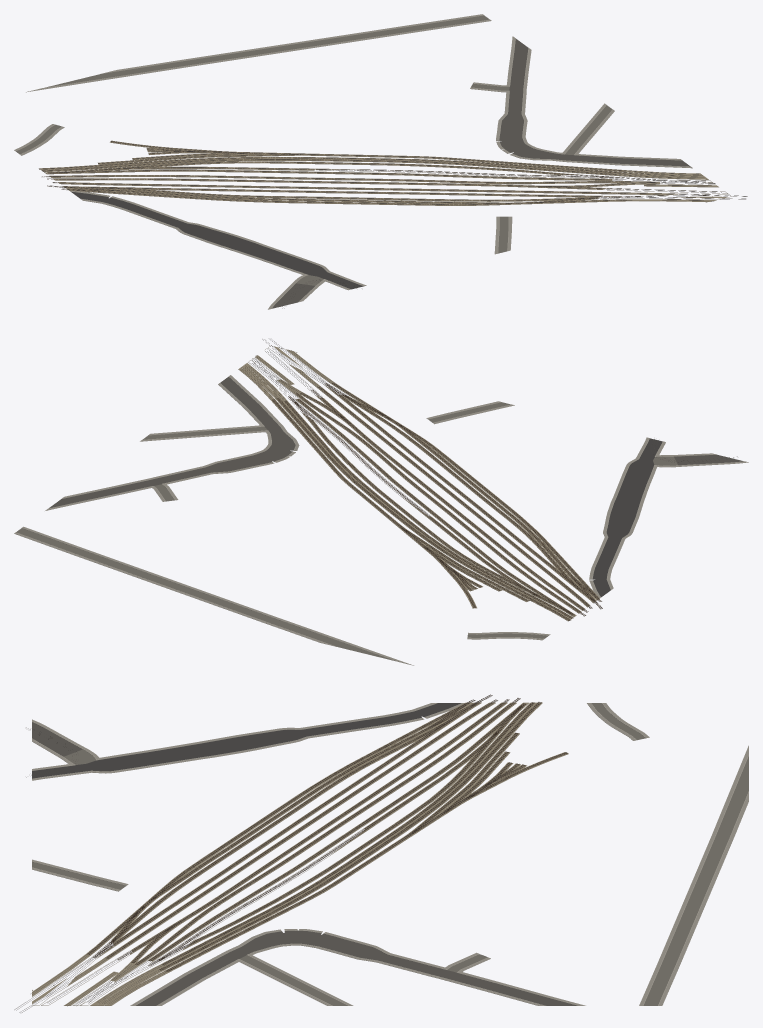
The model's file is Ulice_2_2.fbx.
3 views of the same model, one above another, from view 1: azimuth 30°, elevation 25°; view 2: azimuth 150°, elevation 25°; view 3: azimuth 270°, elevation 25° (orthographic). The views are drawn at different scales.
Parts seen in each view (by area): view 1: Tory_2_2, Ulica_2_2, Chodnik_2_2, Podklady_2_2_NOCOL; view 2: Tory_2_2, Podklady_2_2_NOCOL, Ulica_2_2, Chodnik_2_2; view 3: Tory_2_2, Podklady_2_2_NOCOL, Ulica_2_2, Chodnik_2_2.
Boxes of the visible parts, x1=… form: Tory_2_2: x1=39, y1=140, x2=747, y2=205; Ulica_2_2: x1=16, y1=15, x2=690, y2=308; Chodnik_2_2: x1=14, y1=14, x2=707, y2=309; Podklady_2_2_NOCOL: x1=39, y1=141, x2=629, y2=204; Tory_2_2: x1=238, y1=339, x2=602, y2=621; Podklady_2_2_NOCOL: x1=272, y1=382, x2=602, y2=620; Ulica_2_2: x1=16, y1=376, x2=743, y2=660; Chodnik_2_2: x1=14, y1=352, x2=748, y2=665; Tory_2_2: x1=14, y1=695, x2=568, y2=1012; Podklady_2_2_NOCOL: x1=87, y1=694, x2=567, y2=971; Ulica_2_2: x1=26, y1=703, x2=748, y2=1005; Chodnik_2_2: x1=32, y1=703, x2=748, y2=1005.
Size of the model in its own units: 526 by 0.5001 by 512.
